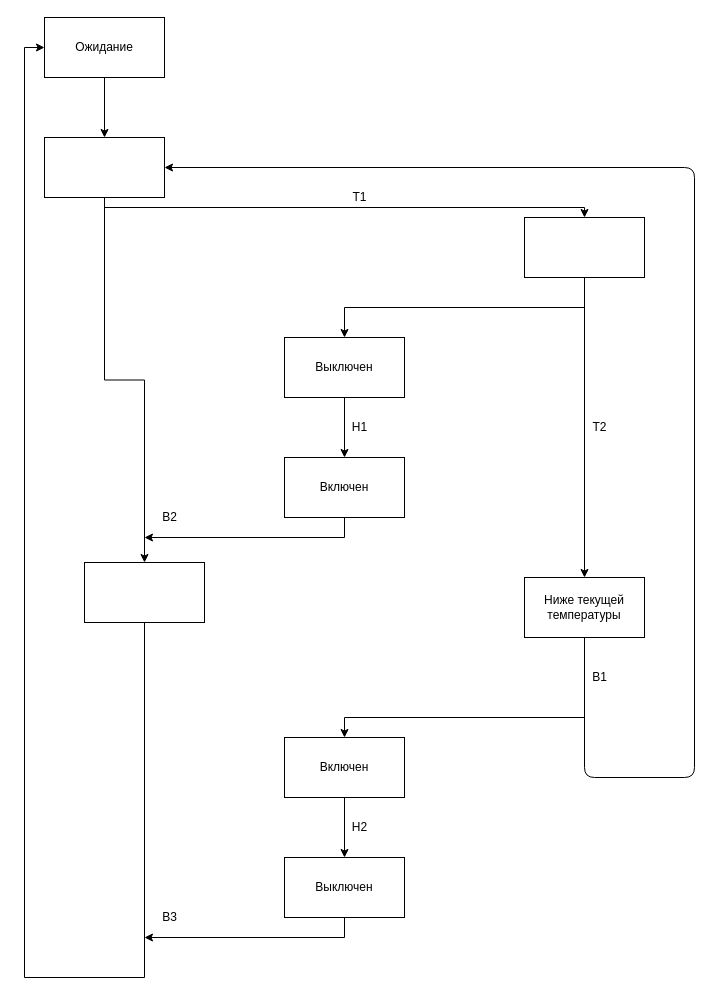
The diagram is 720 pixels wide and 1003 high, and some of its shapes have lost their labels. Here are the shapes that lost their labels. From the top down, the centre of each, then its label:
(104,167): Установка нужной температуры
(584,247): Выше текущей температуры
(144,592): Работа
